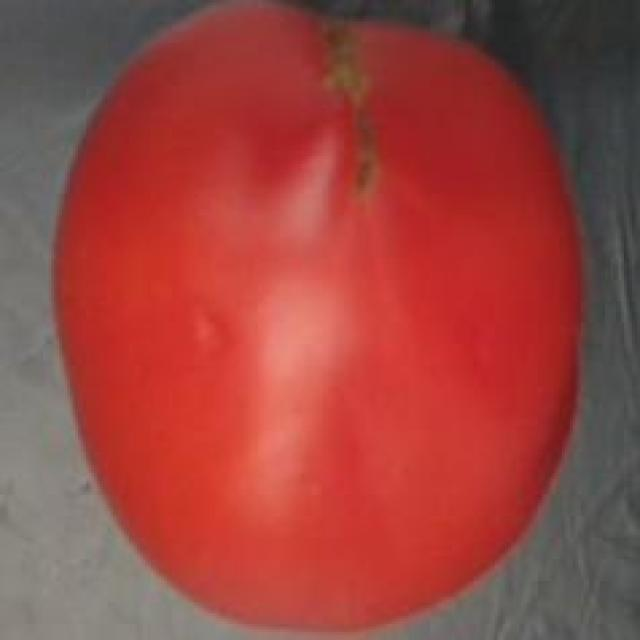overripe tomato: (46, 0, 594, 640)
